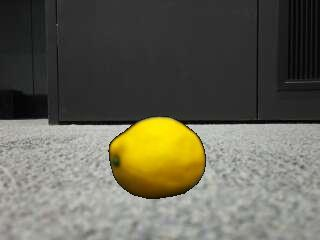lemon: (110, 117, 204, 198)
